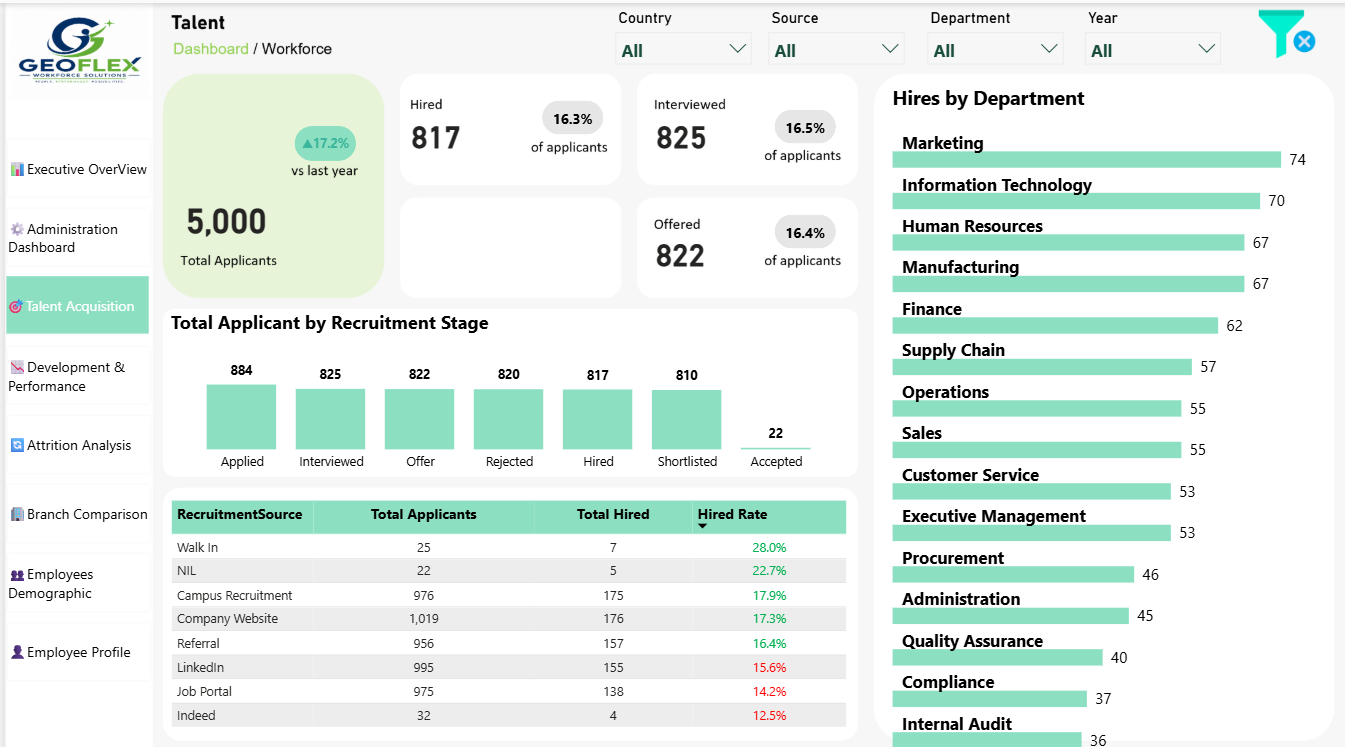

The page's visual inventory and layout, read from the dashboard file:
{"tool":"powerbi","page":{"name":"🎯Talent Acquisition","canvas":[1280,720],"ordinal":2},"visuals":[{"type":"clusteredColumnChart","title":"Total Applicant by Recruitment Stage","fields":{"Category":["Recruitment.Stage"],"Y":["_Dax House.Total Applicants"]},"box":[153.9,291.6,656.2,164.1],"z":0},{"type":"tableEx","fields":{"Values":["Recruitment.RecruitmentSource","_Dax House.Total Applicants","_Dax House.Total Hired","_Dax House.Hired Rate"]},"box":[153.9,469.9,656.2,251.1],"z":1000},{"type":"clusteredBarChart","title":"Hires by Department","fields":{"Category":["Departments.DepartmentName"],"Y":["_Dax House.Header","_Dax House.Total Hired"]},"box":[842.5,77,411.1,640],"z":2000},{"type":"card","fields":{"Values":["_Dax House.Total Applicants"]},"box":[162,170.1,97.2,68.9],"z":3000},{"type":"card","fields":{"Values":["_Dax House.Total Hired"]},"box":[362.5,91.1,97.2,68.9],"z":4000},{"type":"card","fields":{"Values":["_Dax House.Interviewed Stage"]},"box":[597.5,91.1,97.2,68.9],"z":5000},{"type":"card","fields":{"Values":["_Dax House.Offer"]},"box":[595.4,204.6,97.2,68.9],"z":6000},{"type":"shape","box":[735.2,202.5,58.7,32.4],"z":7000},{"type":"shape","box":[735.2,101.3,58.7,32.4],"z":8000},{"type":"shape","box":[512.4,93.2,58.7,32.4],"z":9000},{"type":"shape","box":[276.8,117.7,58.9,33.4],"z":10000},{"type":"pageNavigator","box":[0,127.2,141.6,529.7],"z":11000},{"type":"slicer","fields":{"Values":["Departments.DepartmentName"]},"box":[870.9,0,149.9,74.9],"z":12000},{"type":"slicer","fields":{"Values":["Date Table.Year"]},"box":[1020.8,0,149.9,74.9],"z":13000},{"type":"slicer","fields":{"Values":["Recruitment.RecruitmentSource"]},"box":[719,0,149.9,74.9],"z":14000},{"type":"image","box":[1185,3.2,79.5,54.1],"z":15000},{"type":"slicer","fields":{"Values":["Branches.CountryName"]},"box":[572.9,0,150.3,68.1],"z":16000}]}

Visuals, with their boxes on the page's 1280x720 design canvas (x1, y1, x2, y2). These are canvas units, not pixel positions in the 1345x747 screenshot, which may show the page scaled, cropped or inside an application window:
"Total Applicant by Recruitment Stage" clusteredColumnChart: box=[154, 292, 810, 456]
tableEx - Recruitment.RecruitmentSource x _Dax House.Total Applicants: box=[154, 470, 810, 721]
"Hires by Department" clusteredBarChart: box=[842, 77, 1254, 717]
card - _Dax House.Total Applicants: box=[162, 170, 259, 239]
card - _Dax House.Total Hired: box=[362, 91, 460, 160]
card - _Dax House.Interviewed Stage: box=[598, 91, 695, 160]
card - _Dax House.Offer: box=[595, 205, 693, 274]
shape: box=[735, 202, 794, 235]
shape: box=[735, 101, 794, 134]
shape: box=[512, 93, 571, 126]
shape: box=[277, 118, 336, 151]
pageNavigator: box=[0, 127, 142, 657]
slicer - Departments.DepartmentName: box=[871, 0, 1021, 75]
slicer - Date Table.Year: box=[1021, 0, 1171, 75]
slicer - Recruitment.RecruitmentSource: box=[719, 0, 869, 75]
image: box=[1185, 3, 1264, 57]
slicer - Branches.CountryName: box=[573, 0, 723, 68]
